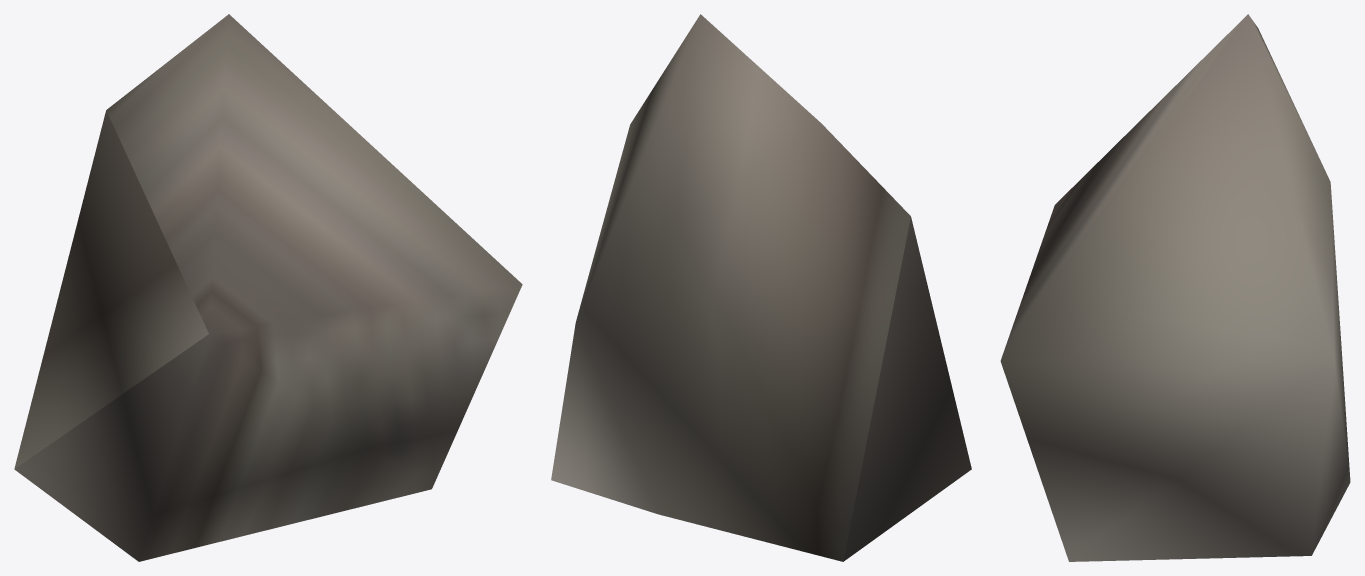
Rendered from Ruins5.glb.
3 renders of one model, left to right at view 1: azimuth 30°, elevation 25°; view 2: azimuth 150°, elevation 25°; view 3: azimuth 270°, elevation 25°, orthographic. The views are drawn at different scales.
Parts seen in each view (by area): view 1: Ruins5; view 2: Ruins5; view 3: Ruins5.
Part boxes in pixels (<box>): Ruins5: <box>14,14,522,561</box>; Ruins5: <box>551,14,971,561</box>; Ruins5: <box>1000,14,1350,561</box>.
Size of the model in its own units: 3.25 by 3.91 by 2.55.
Materials: 1 (1 with a texture image).
